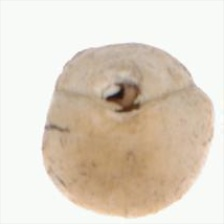L3: (99, 78, 145, 118)
L4: (40, 42, 215, 216)
